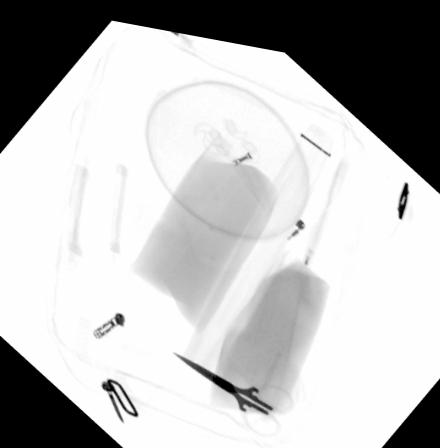Scissors: (172, 344, 293, 431)
